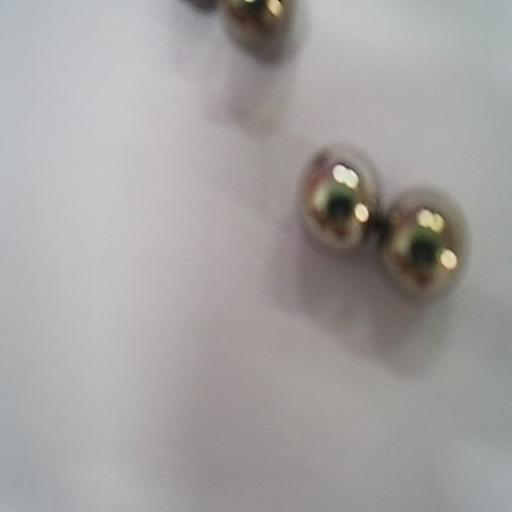steel-ball: (296, 125, 380, 262), (388, 178, 468, 304), (212, 0, 306, 59)
